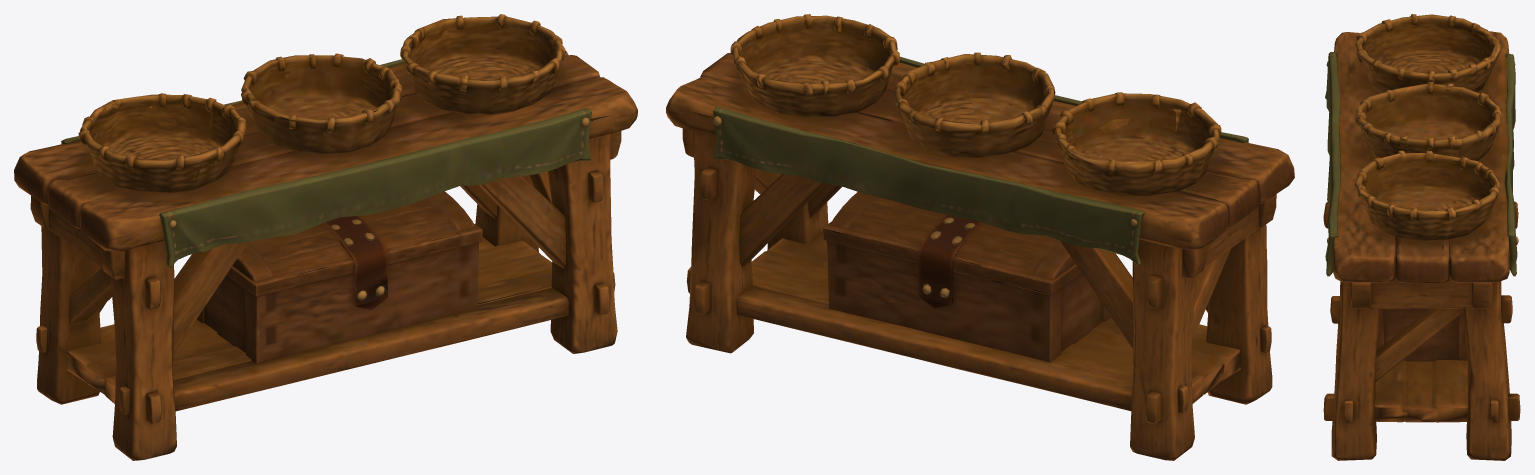
The model's file is exchange.glb.
The picture shows the model from 3 angles, left to right: view 1: azimuth 30°, elevation 25°; view 2: azimuth 150°, elevation 25°; view 3: azimuth 270°, elevation 25°; orthographic projection. The views are drawn at different scales.
Visible parts, largest first — view 1: geometry_0; view 2: geometry_0; view 3: geometry_0.
Part boxes in pixels (<box>): geometry_0: <box>14,14,637,460</box>; geometry_0: <box>666,14,1294,460</box>; geometry_0: <box>1323,14,1520,460</box>.
Size of the model in its own units: 0.9521 by 0.4824 by 0.3467.
Materials: 1 (1 with a texture image).
